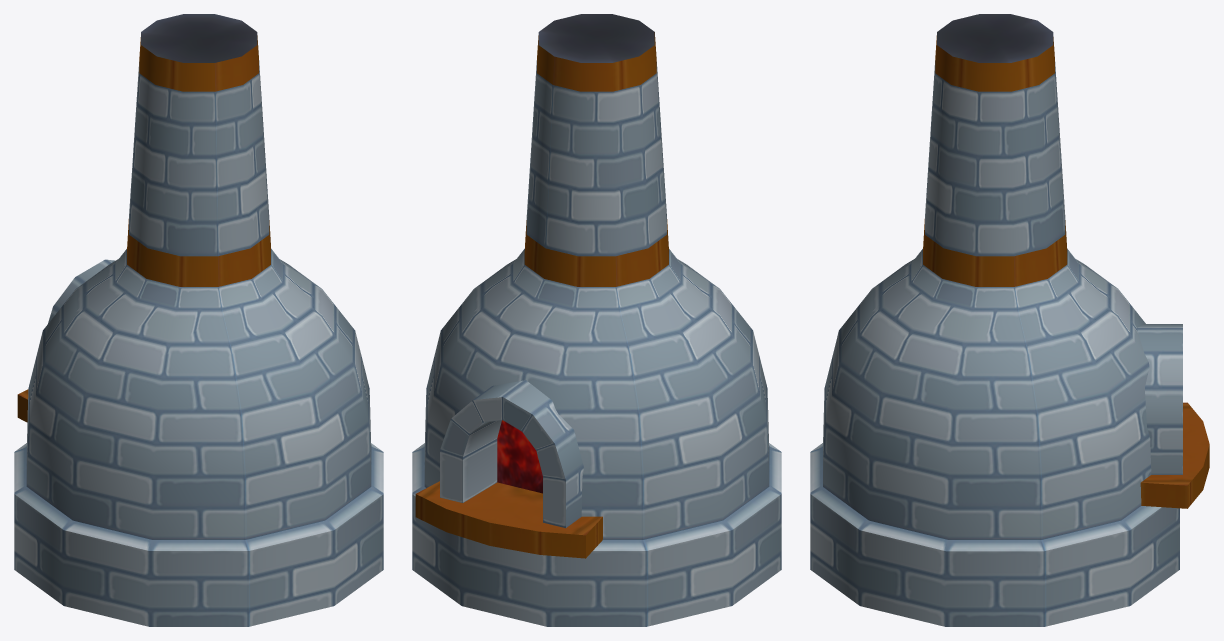
Rendered from HOS0910002.fbx.
3 views of the same model, side by side, from view 1: azimuth 30°, elevation 25°; view 2: azimuth 150°, elevation 25°; view 3: azimuth 270°, elevation 25° (orthographic).
Visible parts, largest first — view 1: smHOS0910002; view 2: smHOS0910002; view 3: smHOS0910002.
Boxes of the visible parts, box(x1,y1,x2,y2) form: smHOS0910002: box(14, 14, 383, 626); smHOS0910002: box(412, 14, 781, 626); smHOS0910002: box(810, 14, 1209, 626).
Size of the model in its own units: 246 by 374 by 265.
1 material, 1 textured.
